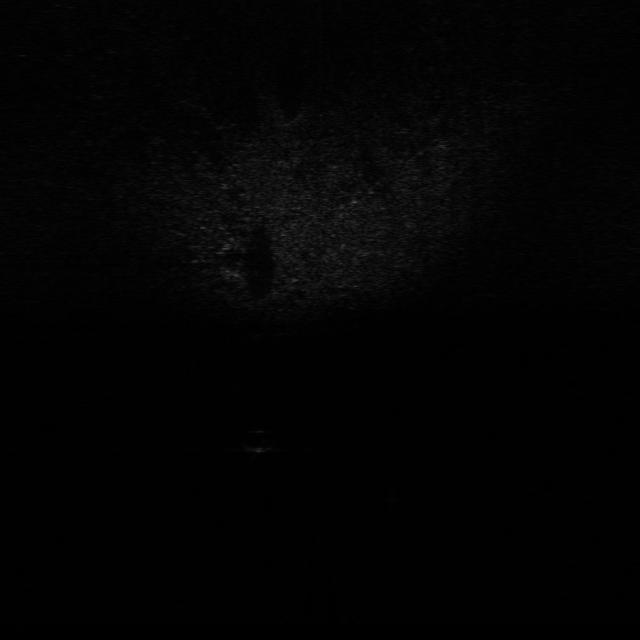ball: (242, 425, 279, 455)
